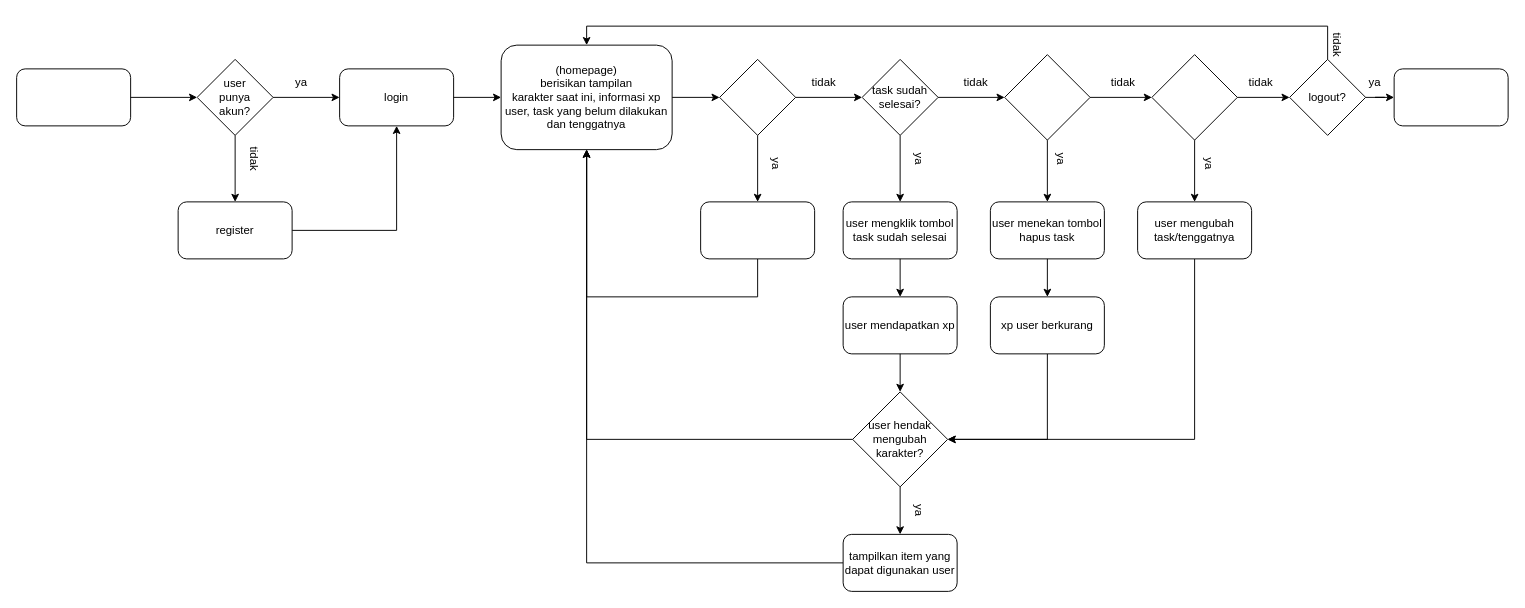
This 1525x608 diagram has some shape labels left out. The box of each missing label's shape, as (x1, y1, x2, y2) in pixels:
selesai: (1393, 68, 1508, 126)
start: (16, 68, 131, 126)
tambah task?: (719, 58, 796, 135)
user ingin mengedit task?: (1151, 54, 1237, 140)
user ingin menghapus task?: (1004, 54, 1090, 140)
user menambahkan task dan tenggatnya: (700, 201, 815, 259)
